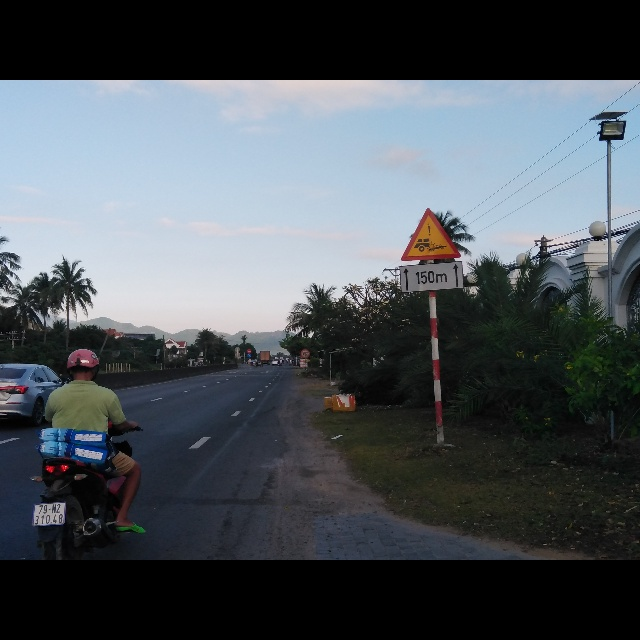Đoạn đường hay xảy ra tai nạn: (401, 208, 460, 259)
